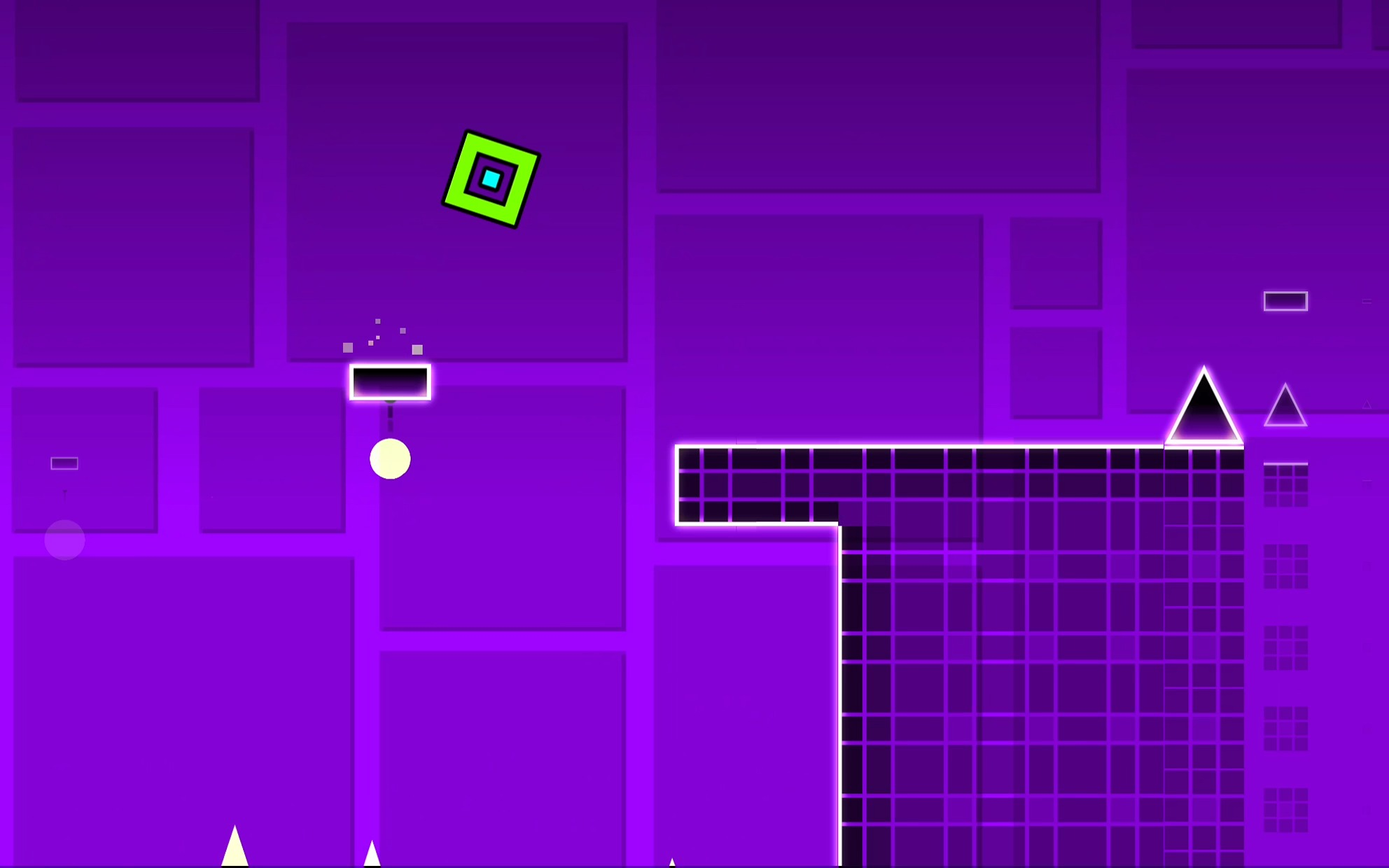Block2: (839, 452, 1313, 867), (675, 445, 838, 522)
Block3: (349, 365, 433, 400), (1262, 290, 1309, 311)
Player: (442, 130, 539, 228)
Spike: (1165, 367, 1241, 443), (1265, 383, 1307, 426)
